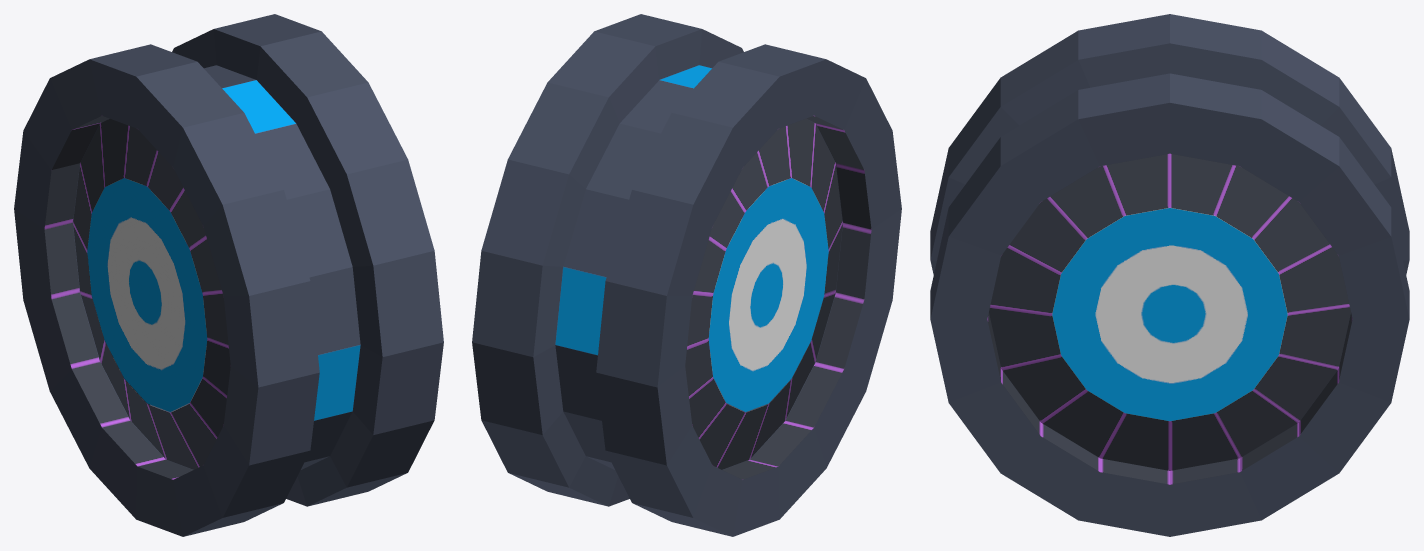
The model's file is prmCyberp.fbx.
The picture shows the model from 3 angles, left to right: view 1: azimuth 30°, elevation 25°; view 2: azimuth 150°, elevation 25°; view 3: azimuth 270°, elevation 25°; orthographic projection. The views are drawn at different scales.
Visible parts, largest first — view 1: prmCyberpunk; view 2: prmCyberpunk; view 3: prmCyberpunk.
Boxes of the visible parts, x1,y1,x2,y2 form: prmCyberpunk: (14,14,443,536); prmCyberpunk: (472,14,901,536); prmCyberpunk: (930,14,1409,536).
Size of the model in its own units: 88.54 by 202 by 202.
Materials: 1 (1 with a texture image).
